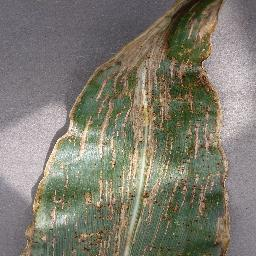Gray_Leaf_Spot: (17, 0, 240, 256)
